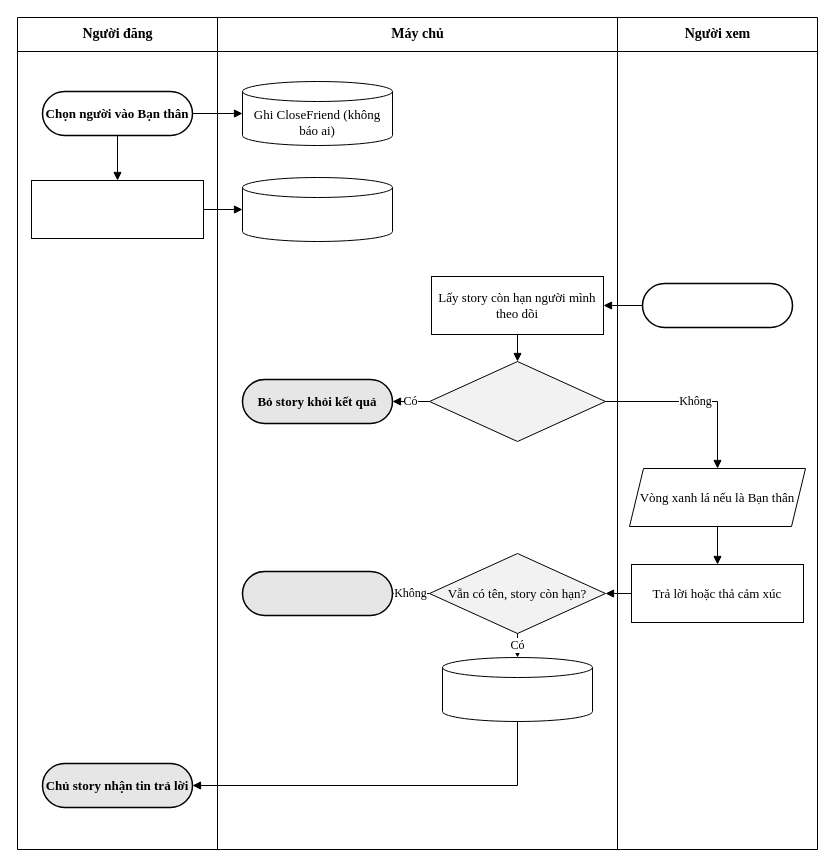
This 835x867 diagram has some shape labels left out. Each missing label, with the centre of its shape:
Báo story không còn: [317,593]
Ghi tin trả lời, nhãn Bạn thân: [517,689]
Mở khay story: [717,305]
Ngoài danh sách Bạn thân?: [517,401]
Story audience = CLOSE_FRIENDS: [317,209]
Đăng story, chọn Bạn thân: [117,209]
